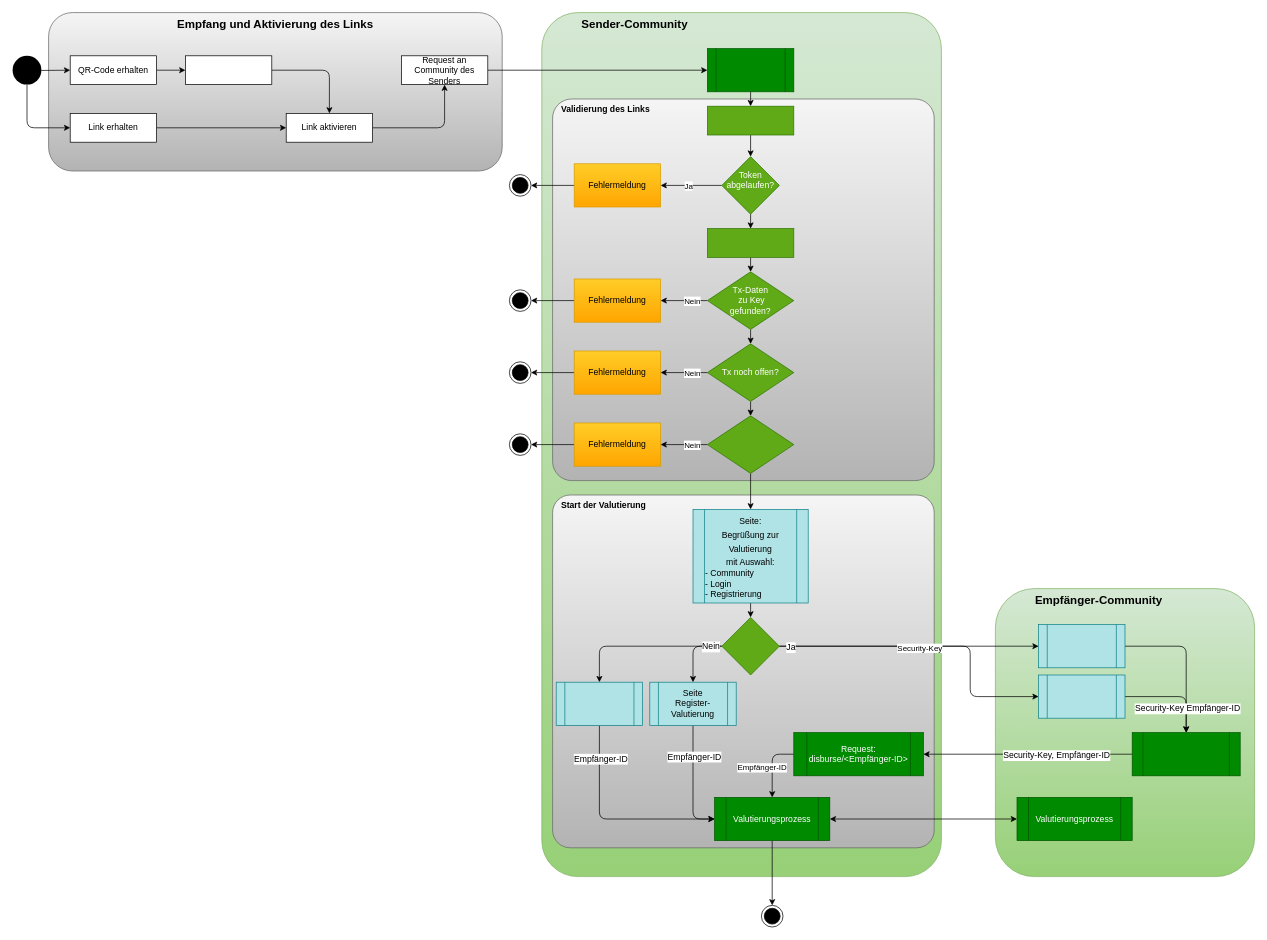
The diagram is 1267 pixels wide and 940 high, and some of its shapes have lost their labels. The centre of each missing label's shape, as x and y in pixels:
"andere Community?" goes at (x=750, y=646).
"decodiere <Token>" goes at (x=750, y=120).
"Disburse-Prozess" goes at (x=1185, y=754).
"lese mit Token-Key die Tx-Daten aus der Datenbank" goes at (x=750, y=242).
"Linkinhalt passt zu gelesenen Tx-Daten?" goes at (x=750, y=444).
"QR-Code in Link konvertieren" goes at (x=228, y=70).
"Request: send/<Token>" goes at (x=750, y=70).
"Seite Login-Valutierung" goes at (x=599, y=703).
"Seite: Login-Valutierung" goes at (x=1081, y=646).
"Seite: Register-Valutierung" goes at (x=1081, y=696).
